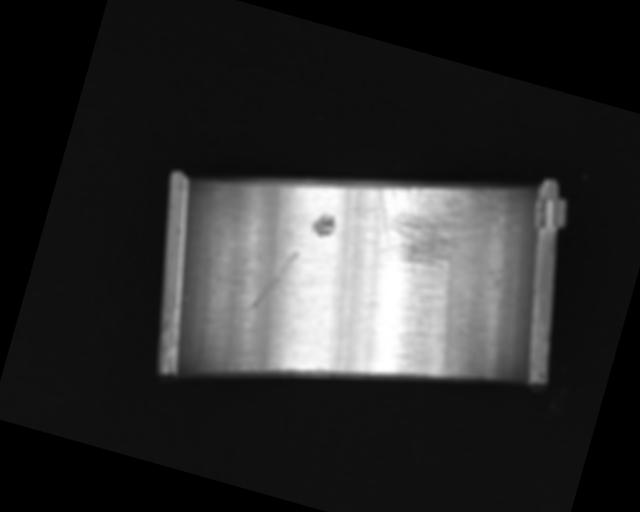bruise: (308, 211, 338, 239)
nick: (310, 246, 365, 373), (246, 242, 299, 321)
scratch: (358, 157, 499, 291)
